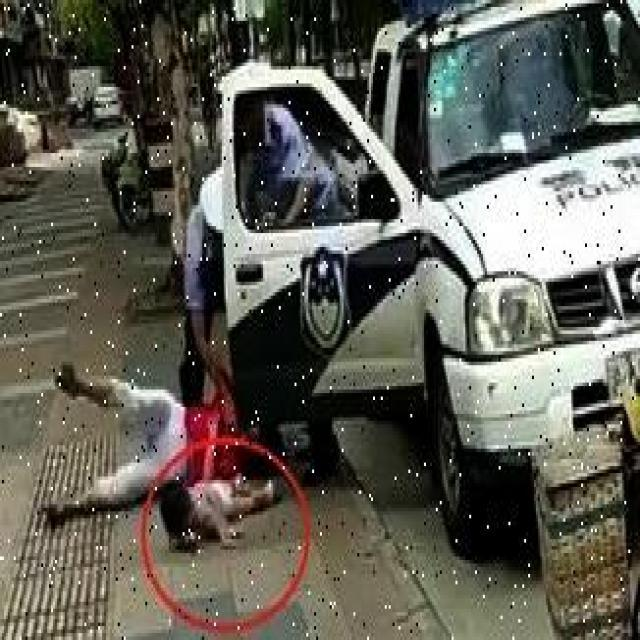fall: (32, 386, 260, 529)
